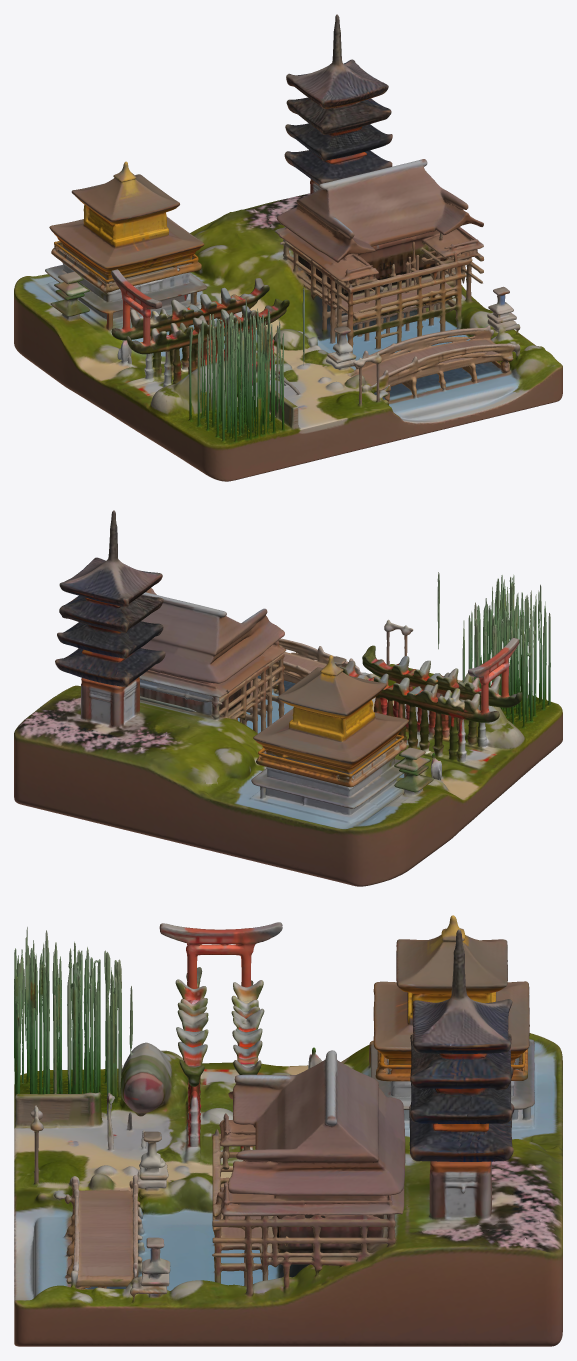
File: Kyoto_Japan.glb
The picture shows the model from 3 angles, top to bottom: view 1: azimuth 30°, elevation 25°; view 2: azimuth 150°, elevation 25°; view 3: azimuth 270°, elevation 25°; orthographic projection. The views are drawn at different scales.
Parts seen in each view (by area): view 1: tripo_node_c6126849-83a6-413a-8e12-4a0721f06fac; view 2: tripo_node_c6126849-83a6-413a-8e12-4a0721f06fac; view 3: tripo_node_c6126849-83a6-413a-8e12-4a0721f06fac.
Part boxes in pixels (left/top/right/bottom): tripo_node_c6126849-83a6-413a-8e12-4a0721f06fac: left=14, top=14, right=562, bottom=481; tripo_node_c6126849-83a6-413a-8e12-4a0721f06fac: left=14, top=510, right=562, bottom=886; tripo_node_c6126849-83a6-413a-8e12-4a0721f06fac: left=14, top=915, right=562, bottom=1346.
Size of the model in its own units: 0.9999 by 0.722 by 0.9486.
1 material, 1 textured.
